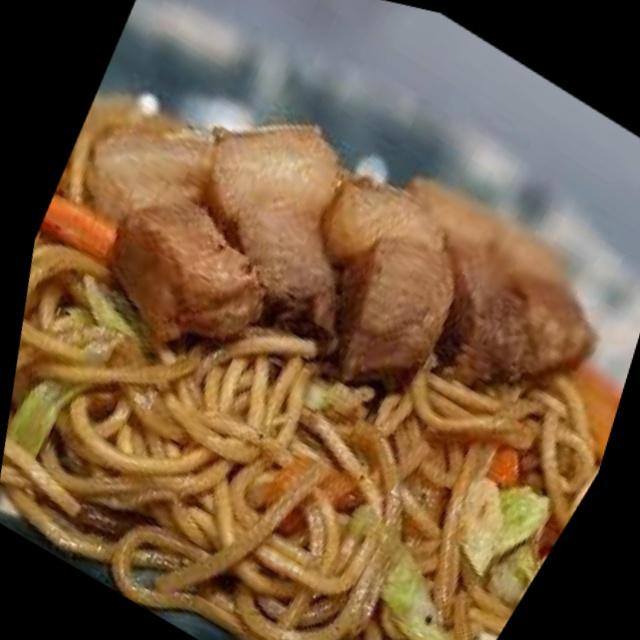pancit bihon: (0, 185, 614, 639)
